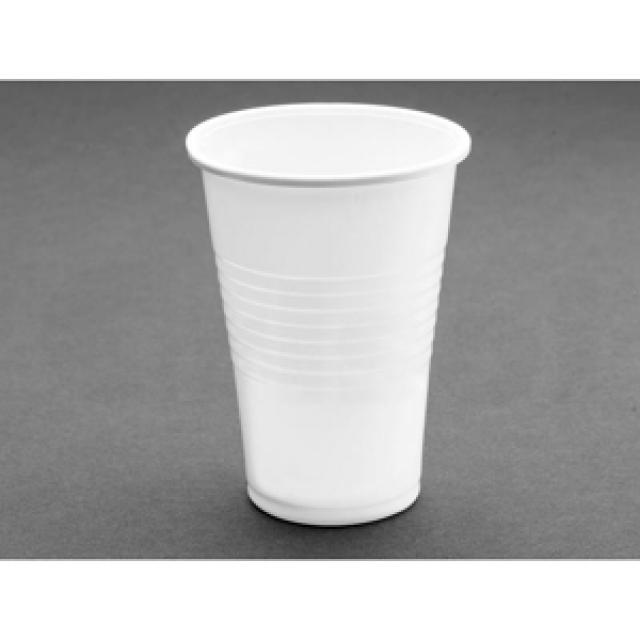plastic cup: (179, 94, 476, 529)
